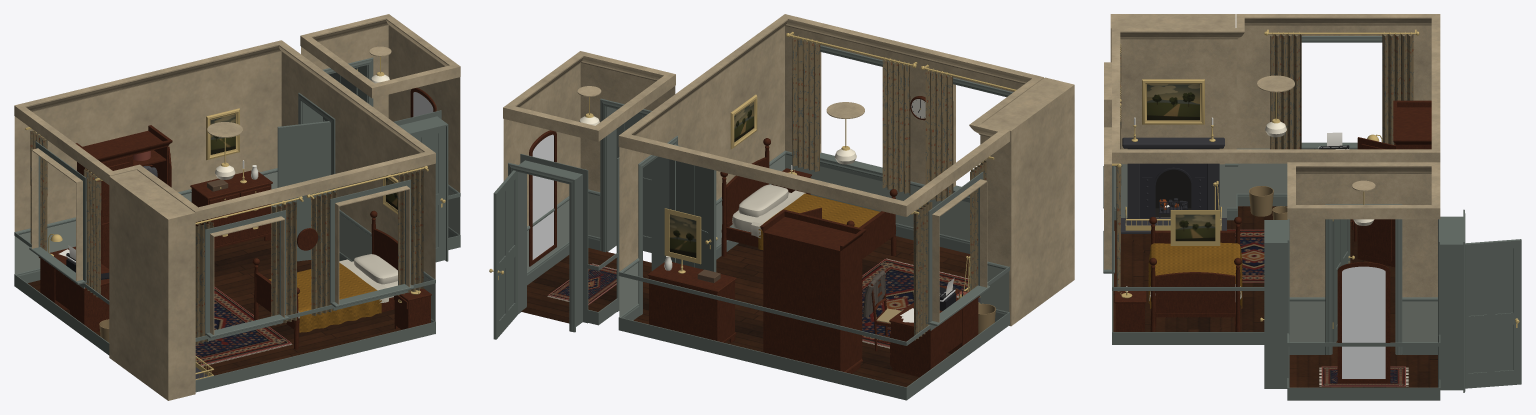
The model's file is room_guest_room.gltf.
The picture shows the model from 3 angles, left to right: view 1: azimuth 30°, elevation 25°; view 2: azimuth 150°, elevation 25°; view 3: azimuth 270°, elevation 25°; orthographic projection. The views are drawn at different scales.
Parts seen in each view (by area): view 1: 客房·墙面与线脚, 客房·烟囱墙-col, 客房·床-col, 客房·房门, 客房·衣柜（大衣与皮鞋）-col, 客房·五斗柜-col, 客房·地毯, 客房·书桌-col, 前室·盥洗室门（锁着）, 客房·床头柜, 客房·五斗柜上的油画, 前室·穿衣镜 (+1 smaller); view 2: 客房·墙面与线脚, 客房·烟囱墙-col, 客房·衣柜（大衣与皮鞋）-col, 客房·床-col, 客房·五斗柜-col, 客房·书桌-col, 前室·走廊门, 客房·房门, 前室·穿衣镜, 客房·地毯, 客房·五斗柜上的油画, 客房·椅子与外套 (+3 smaller); view 3: 客房·墙面与线脚, 前室·走廊门, 客房·床-col, 前室·穿衣镜, 客房·壁炉-col, 客房·衣柜（大衣与皮鞋）-col, 客房·烟囱墙-col, 客房·壁炉上的油画, 客房·床头的油画, 客房·房门, 客房·地毯, 客房·床头柜 (+2 smaller).
Part boxes in pixels (x1,y1,x2,y2): 客房·墙面与线脚: [14, 14, 460, 392]; 客房·烟囱墙-col: [109, 170, 195, 400]; 客房·床-col: [252, 210, 397, 349]; 客房·房门: [277, 121, 330, 261]; 客房·衣柜（大衣与皮鞋）-col: [75, 125, 172, 268]; 客房·五斗柜-col: [190, 160, 272, 248]; 客房·地毯: [195, 287, 292, 366]; 客房·书桌-col: [38, 246, 109, 332]; 前室·盥洗室门（锁着）: [411, 126, 445, 262]; 客房·床头柜: [394, 288, 431, 329]; 客房·五斗柜上的油画: [206, 108, 239, 160]; 前室·穿衣镜: [410, 87, 436, 117]; 客房·墙面与线脚: [503, 14, 1043, 400]; 客房·烟囱墙-col: [982, 77, 1074, 326]; 客房·衣柜（大衣与皮鞋）-col: [760, 207, 866, 373]; 客房·床-col: [720, 138, 897, 258]; 客房·五斗柜-col: [647, 256, 736, 342]; 客房·书桌-col: [889, 285, 979, 377]; 前室·走廊门: [489, 170, 517, 339]; 客房·房门: [669, 144, 717, 272]; 前室·穿衣镜: [529, 130, 556, 266]; 客房·地毯: [862, 258, 969, 348]; 客房·五斗柜上的油画: [664, 208, 701, 264]; 客房·椅子与外套: [863, 270, 901, 351]; 客房·墙面与线脚: [1103, 14, 1465, 400]; 前室·走廊门: [1465, 239, 1521, 388]; 客房·床-col: [1148, 216, 1242, 331]; 前室·穿衣镜: [1337, 262, 1390, 383]; 客房·壁炉-col: [1121, 117, 1226, 233]; 客房·衣柜（大衣与皮鞋）-col: [1357, 100, 1431, 267]; 客房·烟囱墙-col: [1110, 14, 1235, 217]; 客房·壁炉上的油画: [1142, 79, 1204, 124]; 客房·床头的油画: [1170, 210, 1220, 245]; 客房·房门: [1332, 219, 1354, 342]; 客房·地毯: [1227, 229, 1264, 282]; 客房·床头柜: [1114, 286, 1146, 331].
Size of the model in its own units: 6.41 by 2.93 by 5.72.
Materials: 34 (9 with a texture image).
